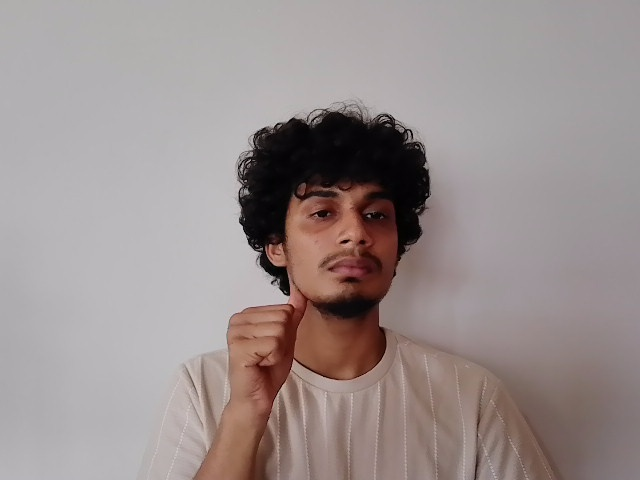not: (226, 280, 394, 376)
